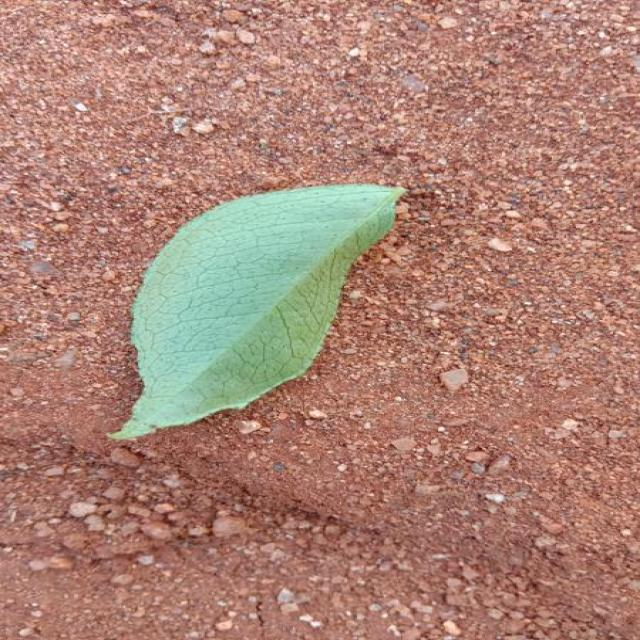curry: (110, 185, 403, 439)
